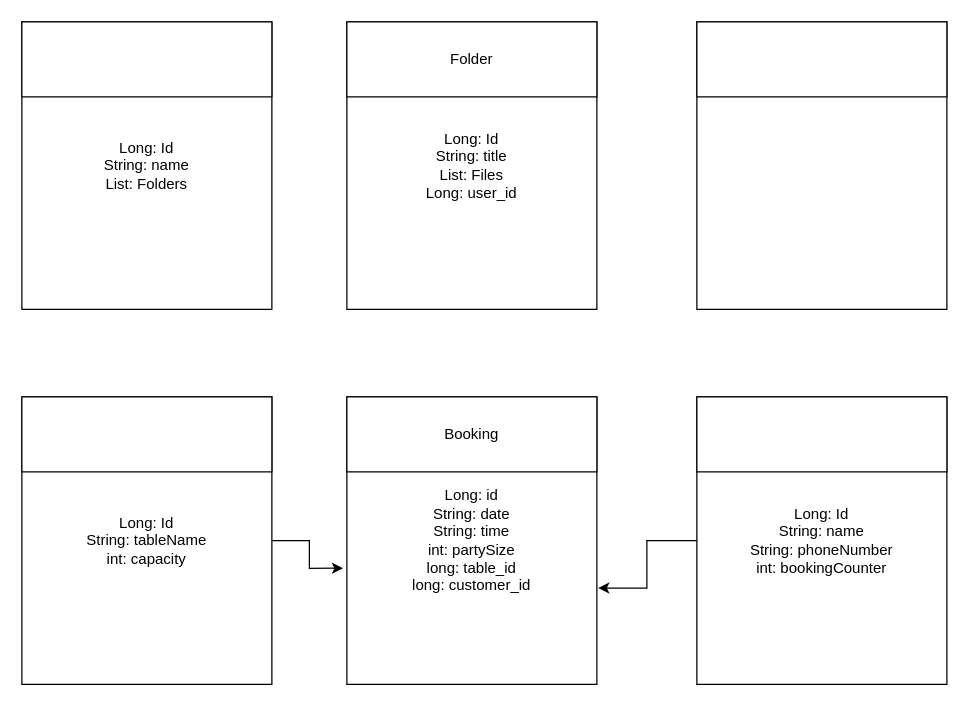
This 969x706 diagram has some shape labels left out. The shapes that lost their labels are listed below. From the top down, each one's centre as x and y in pixels, then its label:
pixel 146 59: User
pixel 821 59: Files
pixel 146 434: Table
pixel 821 434: Customer
